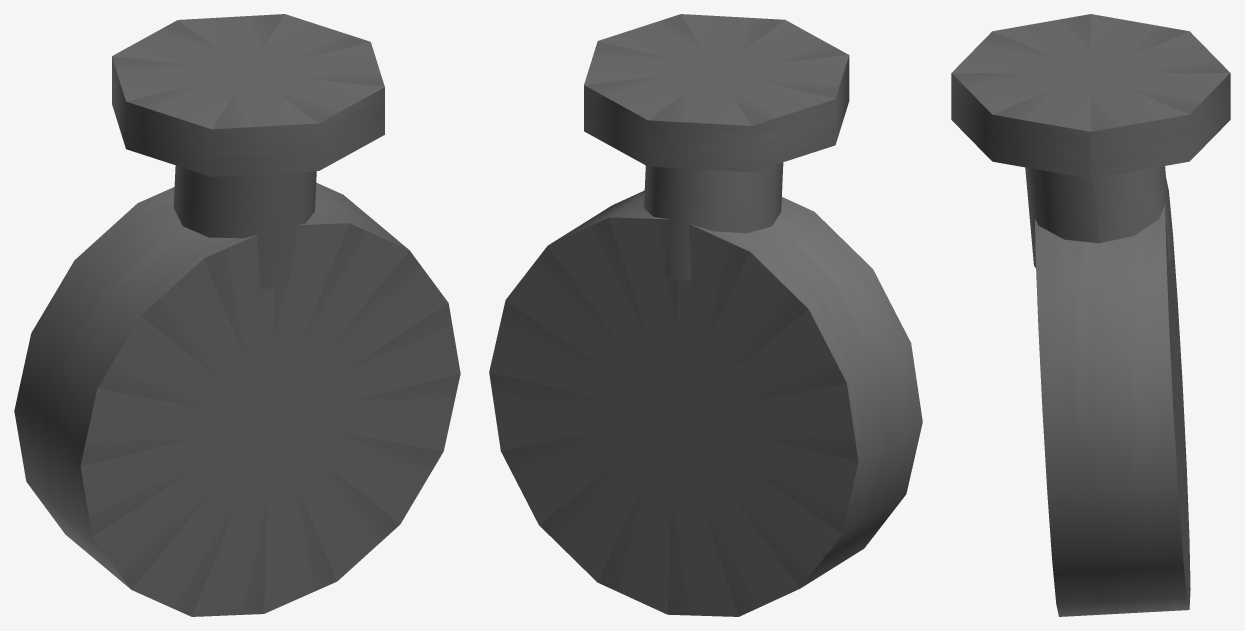
File: mastarmcurve_4x1_c4_up.obj
The picture shows the model from 3 angles, left to right: view 1: azimuth 30°, elevation 25°; view 2: azimuth 150°, elevation 25°; view 3: azimuth 270°, elevation 25°; orthographic projection. The views are drawn at different scales.
Parts seen in each view (by area): view 1: mastarm_4x1_c4_up; view 2: mastarm_4x1_c4_up; view 3: mastarm_4x1_c4_up.
Part boxes in pixels (box(x1,y1,x2,y2)): mastarm_4x1_c4_up: box(14, 14, 460, 616); mastarm_4x1_c4_up: box(489, 14, 922, 616); mastarm_4x1_c4_up: box(951, 14, 1230, 616).
Bounding box in the file's own units: 0.6213 × 0.8287 × 0.4.
